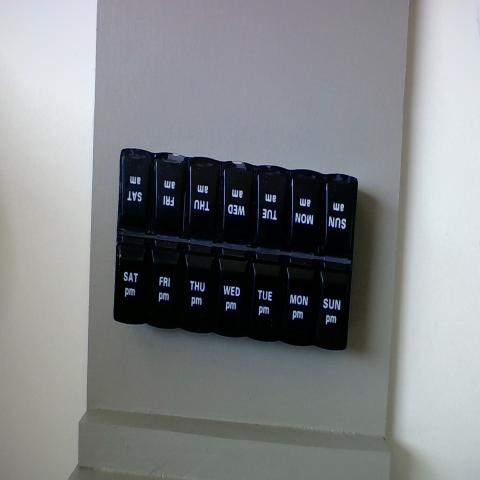FRI-am: (157, 150, 186, 236)
FRI-pm: (151, 240, 181, 324)
MON-am: (288, 171, 322, 254)
MON-pm: (285, 258, 317, 343)
SAT-am: (119, 152, 156, 229)
SAT-pm: (118, 235, 150, 322)
SUN-am: (326, 175, 356, 256)
SUN-pm: (319, 262, 348, 344)
THU-am: (187, 163, 220, 242)
THU-pm: (182, 247, 216, 334)
TUE-am: (255, 168, 288, 248)
TUE-pm: (252, 253, 284, 343)
WED-am: (222, 166, 258, 244)
WED-pm: (217, 253, 248, 336)
